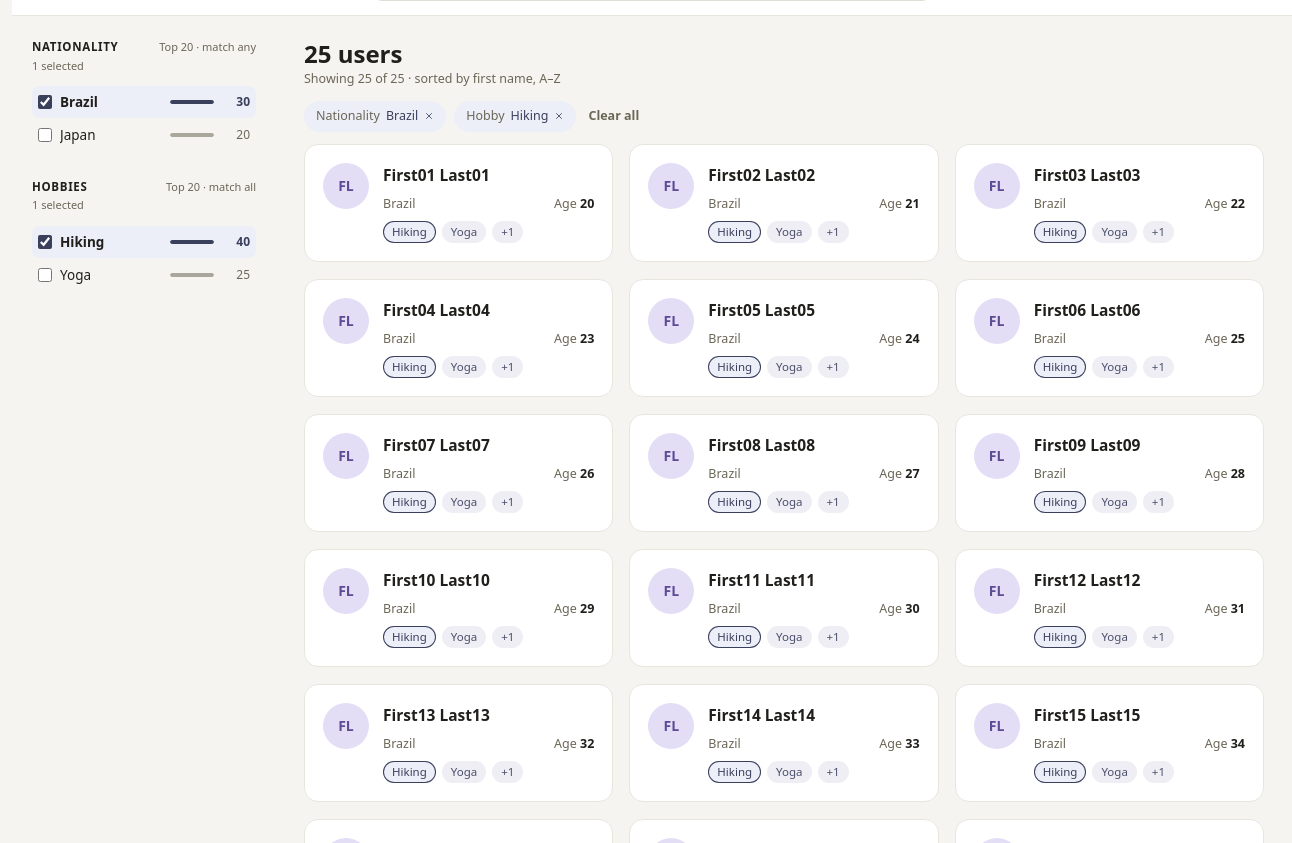
Test case: URL-synced state › removing a chip drops that filter from the URL
Expected: the heading "First01 Last01" is shown, [383, 164, 490, 186]
Click the button with aria-label "Remove filter: Hobby Hiking". click: (515,116)
box: [454, 101, 576, 132]
(page scrolled)
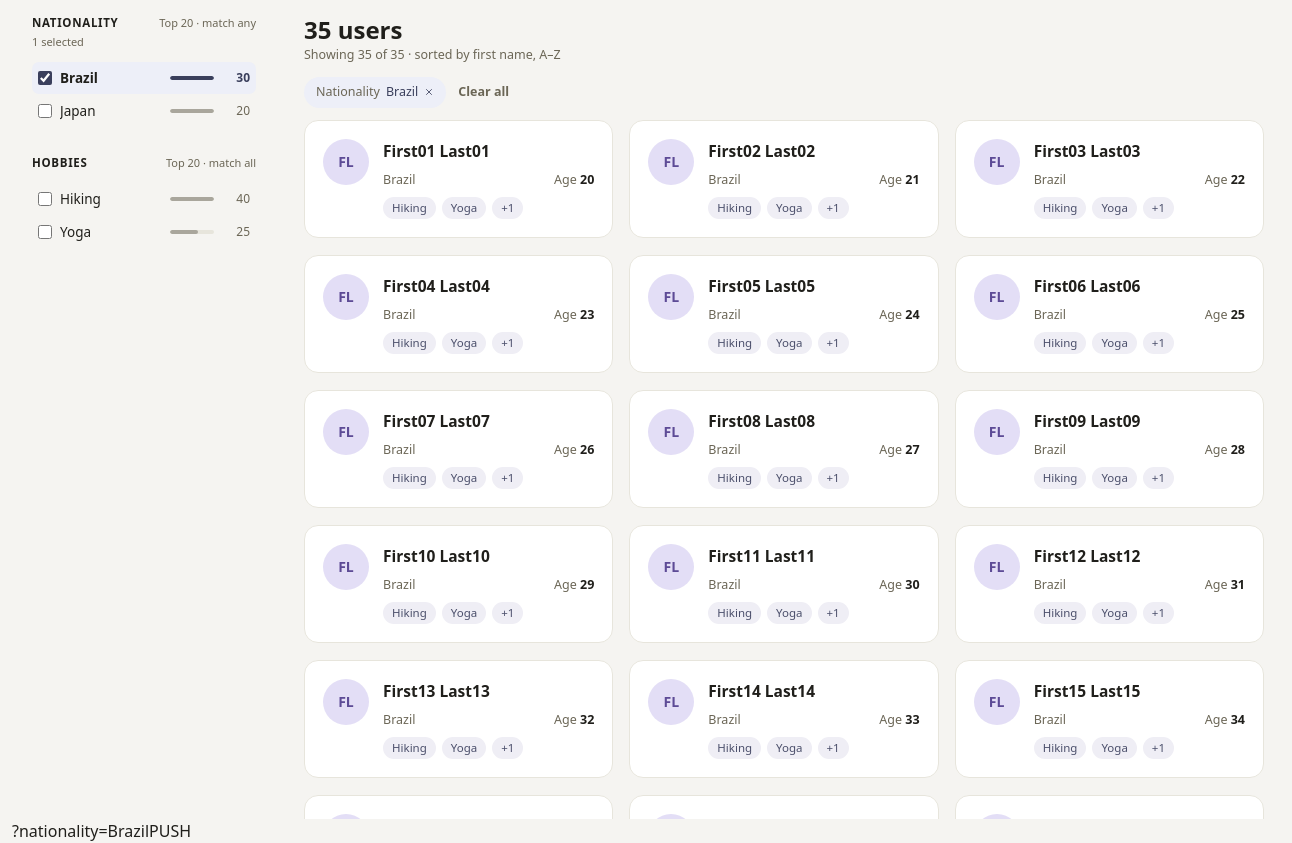
Expected: the text with test id "location" reads "?nationality=Brazil", [12, 820, 149, 842]
